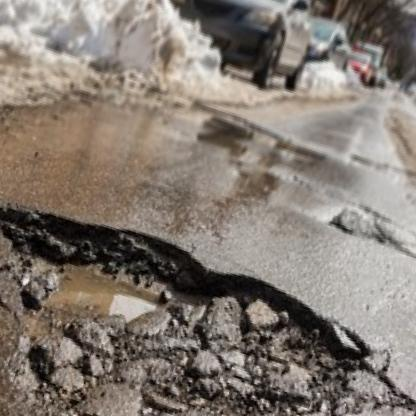pothole: (0, 178, 413, 416)
